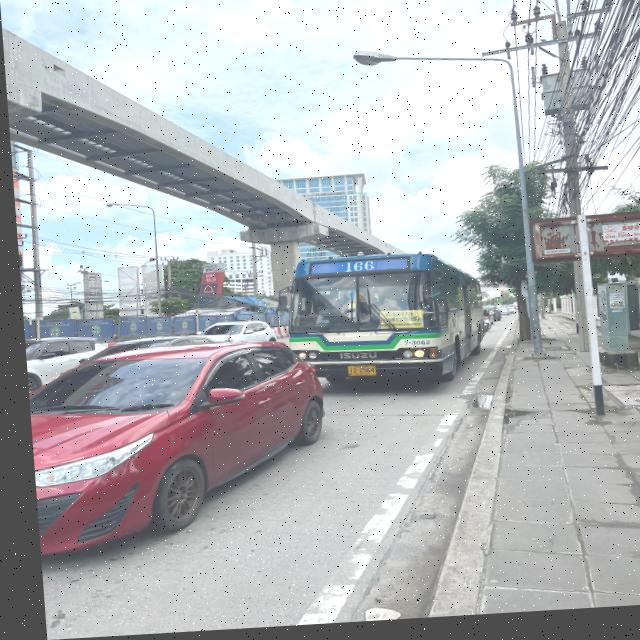BMTA-bus: (274, 248, 486, 392)
Bus-Line-Number: (338, 264, 373, 277)
Destination-Sign-Normal-Expressway: (373, 314, 418, 335)
